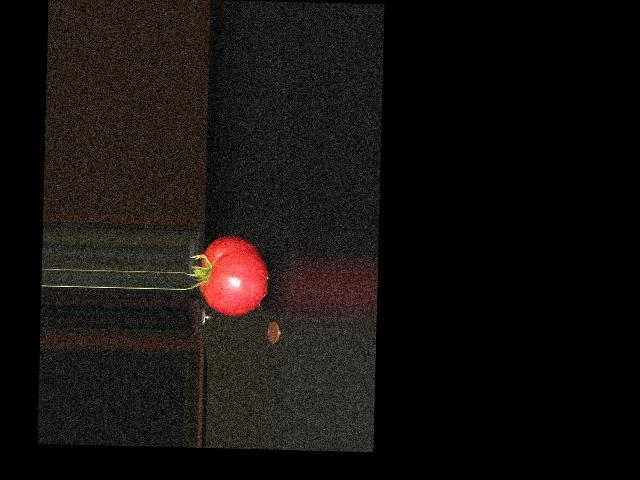tomato: (199, 234, 269, 316)
